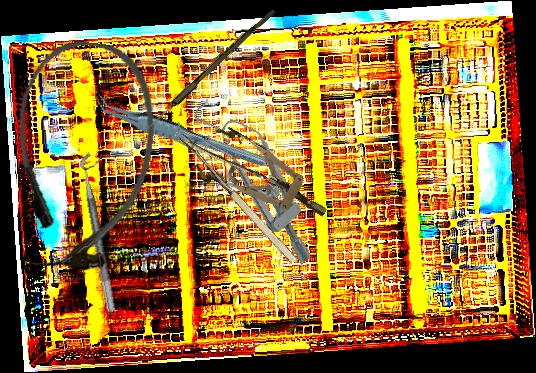Cannula: (1, 35, 164, 277)
Fixation Ring: (78, 150, 129, 313)
Needle Holder: (178, 110, 320, 268)
Speculum: (166, 86, 344, 275), (190, 121, 339, 240)
Surgical Spoon: (135, 5, 277, 142)
Tissue Forceps: (90, 77, 269, 187)
